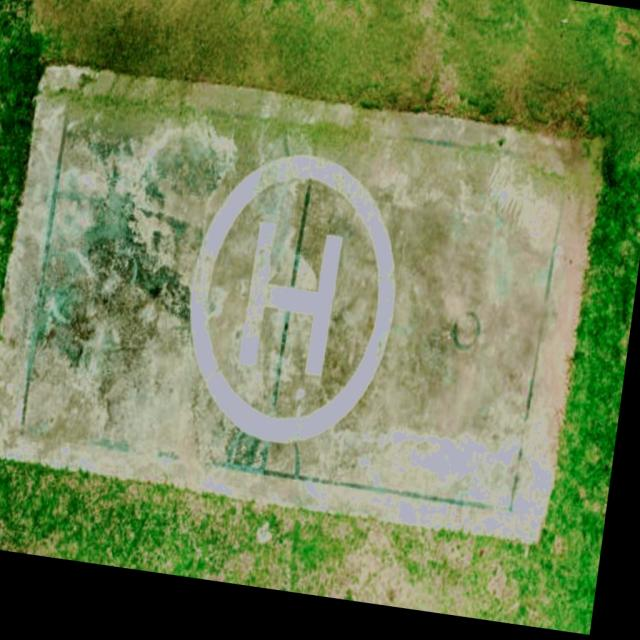helipad: (185, 149, 404, 449)
